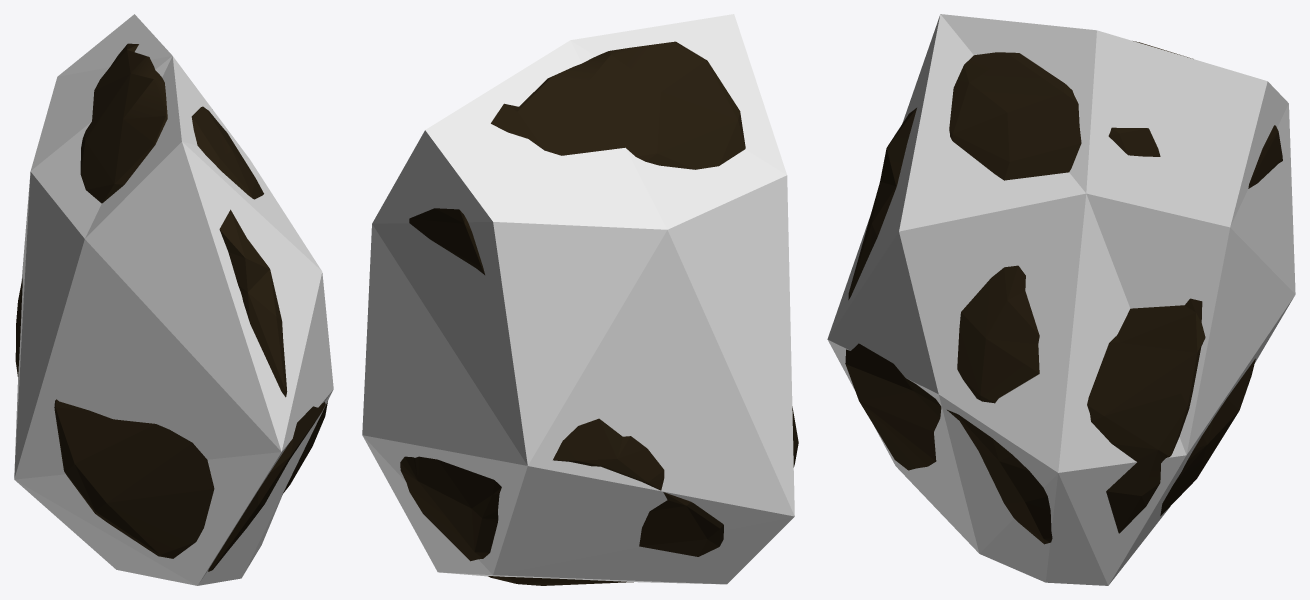
File: model_asteroid_01_b.gltf
3 views of the same model, side by side, from view 1: azimuth 30°, elevation 25°; view 2: azimuth 150°, elevation 25°; view 3: azimuth 270°, elevation 25° (orthographic). The views are drawn at different scales.
Parts seen in each view (by area): view 1: model_asteroid_01_b_CCX, model_asteroid_01_b; view 2: model_asteroid_01_b_CCX, model_asteroid_01_b; view 3: model_asteroid_01_b_CCX, model_asteroid_01_b.
Part boxes in pixels (<box>): model_asteroid_01_b_CCX: <box>14,14,333,585</box>; model_asteroid_01_b: <box>15,43,327,571</box>; model_asteroid_01_b_CCX: <box>362,14,794,584</box>; model_asteroid_01_b: <box>400,41,798,585</box>; model_asteroid_01_b_CCX: <box>827,14,1295,585</box>; model_asteroid_01_b: <box>845,41,1282,544</box>.
Size of the model in its own units: 1.18 by 1.77 by 1.44.
1 material, 1 textured.
